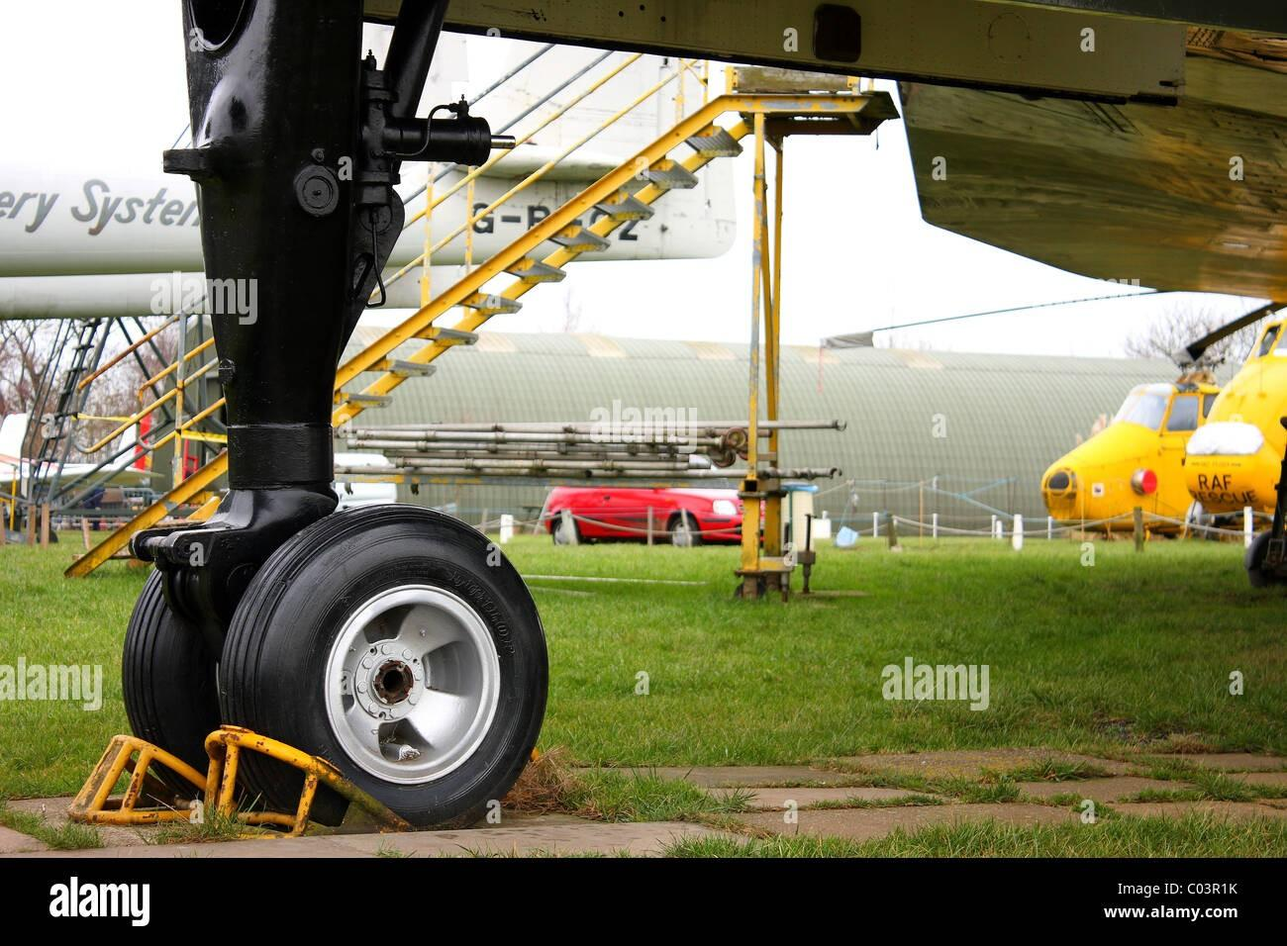boots: (65, 725, 372, 838)
wheels: (216, 503, 551, 827), (119, 555, 232, 807), (665, 510, 704, 548), (551, 512, 583, 544)
